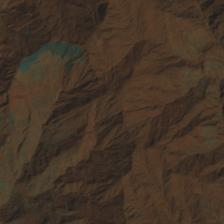landslides: (176, 8, 189, 18)
